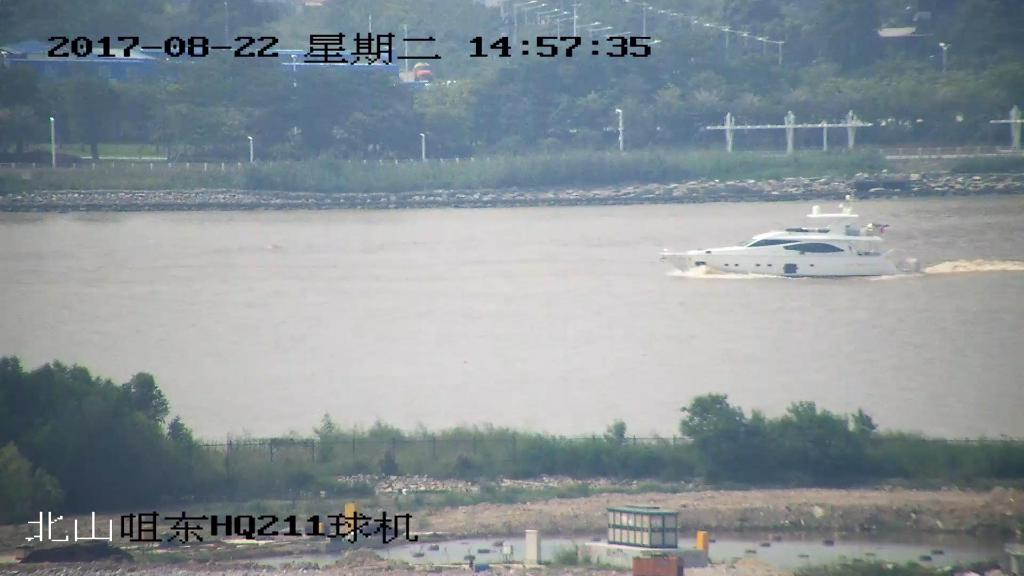PassengerShip: (647, 188, 931, 290)
